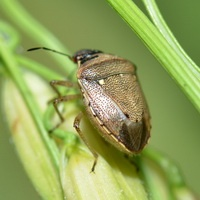insect: (27, 47, 150, 154)
